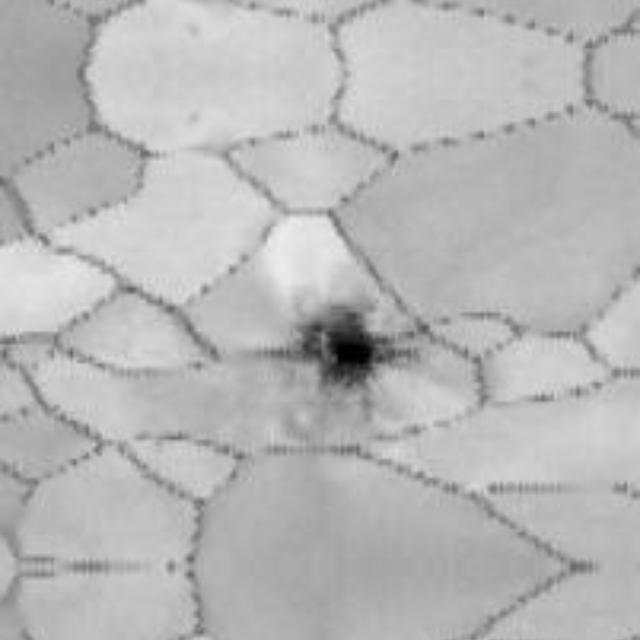good_void: (277, 273, 425, 418)
